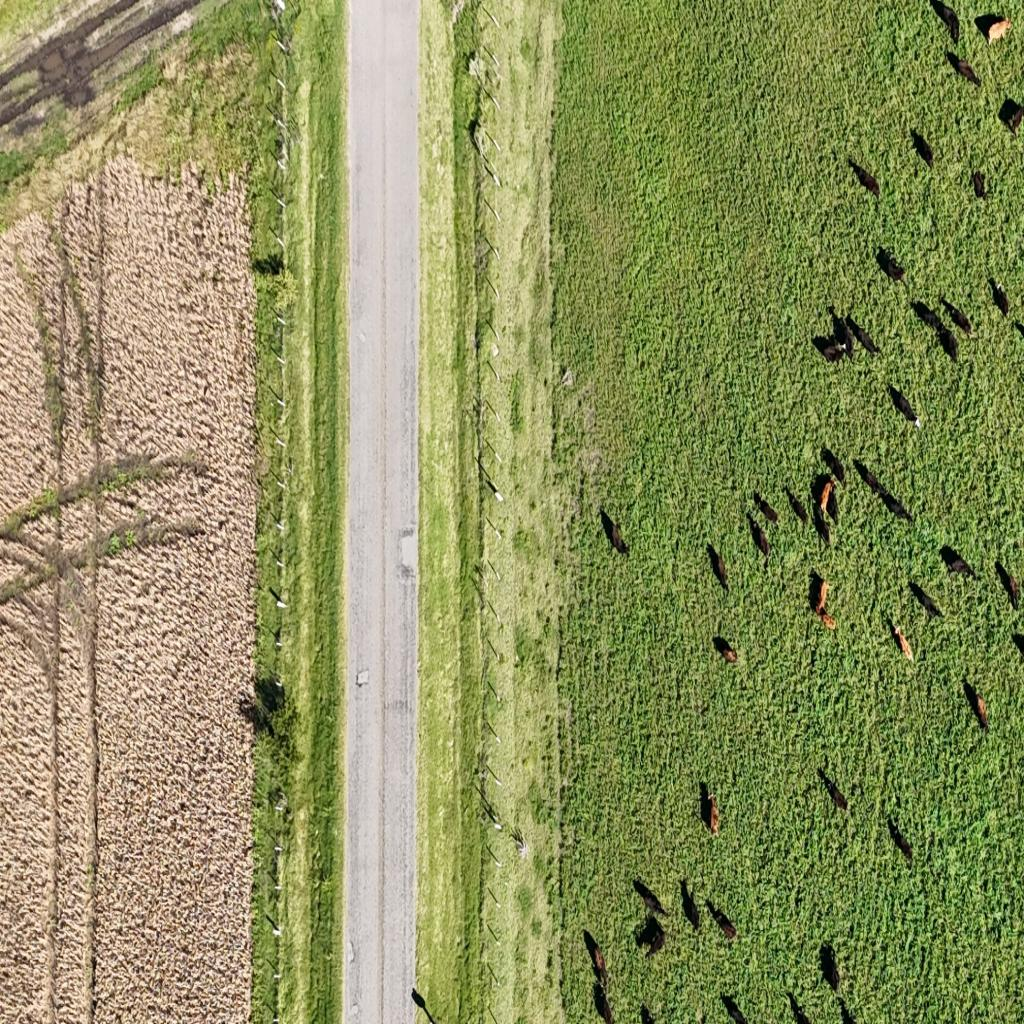cow: (818, 315, 855, 365), (583, 928, 609, 990), (810, 574, 836, 632), (910, 580, 945, 622), (846, 314, 881, 355), (963, 676, 989, 731), (819, 768, 850, 813), (929, 0, 959, 46), (639, 880, 672, 920), (706, 900, 737, 942), (635, 916, 666, 958), (602, 509, 628, 559), (892, 388, 922, 431), (995, 558, 1021, 607), (888, 816, 914, 864), (940, 546, 975, 581), (940, 296, 972, 334), (850, 160, 880, 200), (812, 473, 838, 519), (976, 14, 1011, 46), (751, 488, 780, 526), (948, 53, 980, 87), (682, 880, 702, 934), (700, 781, 719, 837), (858, 460, 886, 498), (748, 515, 771, 561), (936, 323, 962, 363), (593, 978, 615, 1024), (822, 943, 842, 993), (708, 543, 728, 592), (877, 247, 905, 282), (821, 446, 846, 484), (913, 297, 941, 330), (886, 490, 913, 523), (1000, 104, 1024, 141), (722, 993, 750, 1024), (788, 488, 809, 529), (913, 132, 935, 171), (786, 990, 811, 1024), (989, 277, 1010, 317), (891, 624, 913, 662), (815, 505, 832, 551), (713, 636, 739, 663), (972, 170, 988, 200), (840, 1000, 858, 1024)
